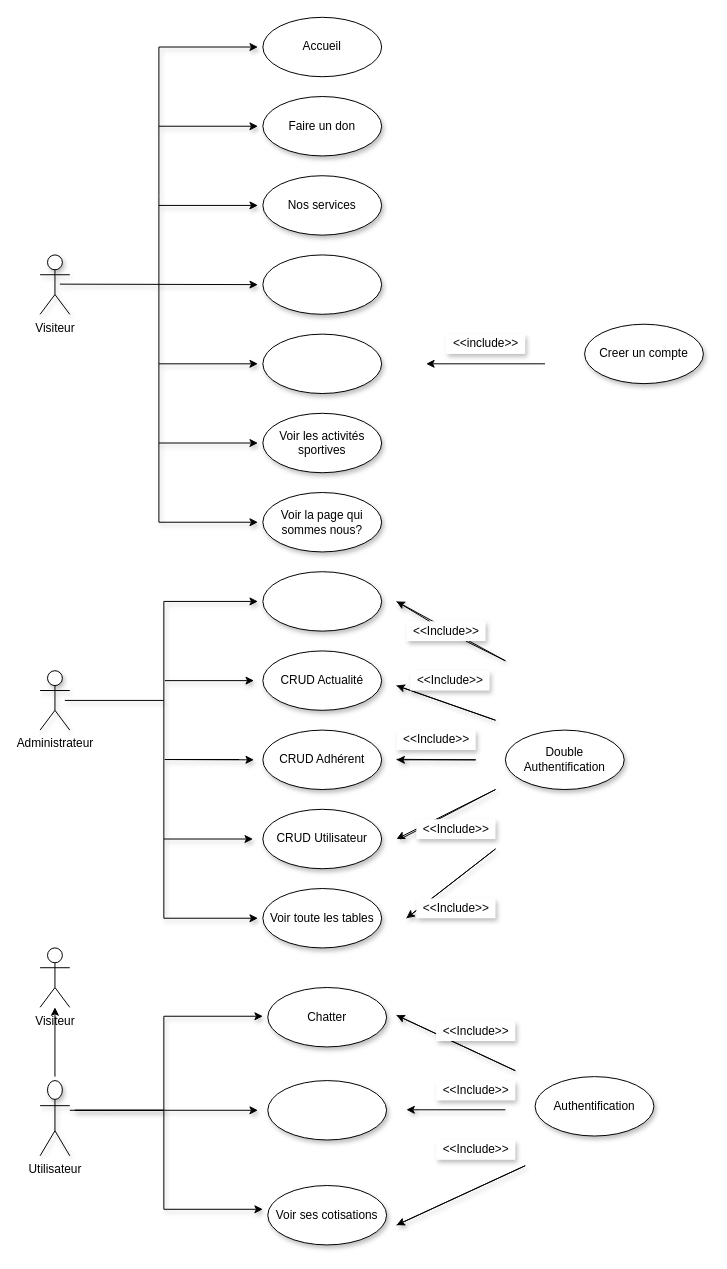
The diagram is 727 pixels wide and 1269 high, and some of its shapes have lost their labels. Here are the shapes that lost their labels. From the top down, the centre of each, then its label:
the point at 323,285: Voir les actualités
the point at 323,364: Nous contacter
the point at 323,602: CRUD Cotisation
the point at 328,1111: Cotiser
